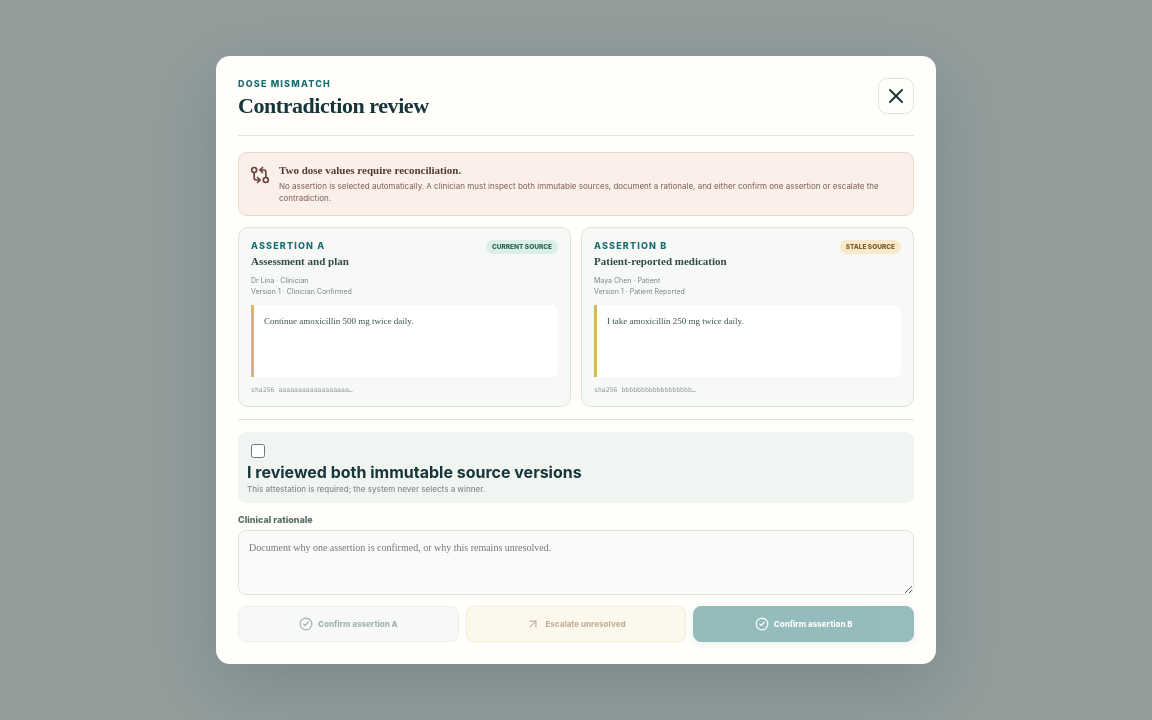
Test: resolution failures remain actionable in the dialog
The width and height of the screenshot is (1152, 720).
Click the checkbox labelled "reviewed both immutable source versions": (258, 451) [251,444,265,458]
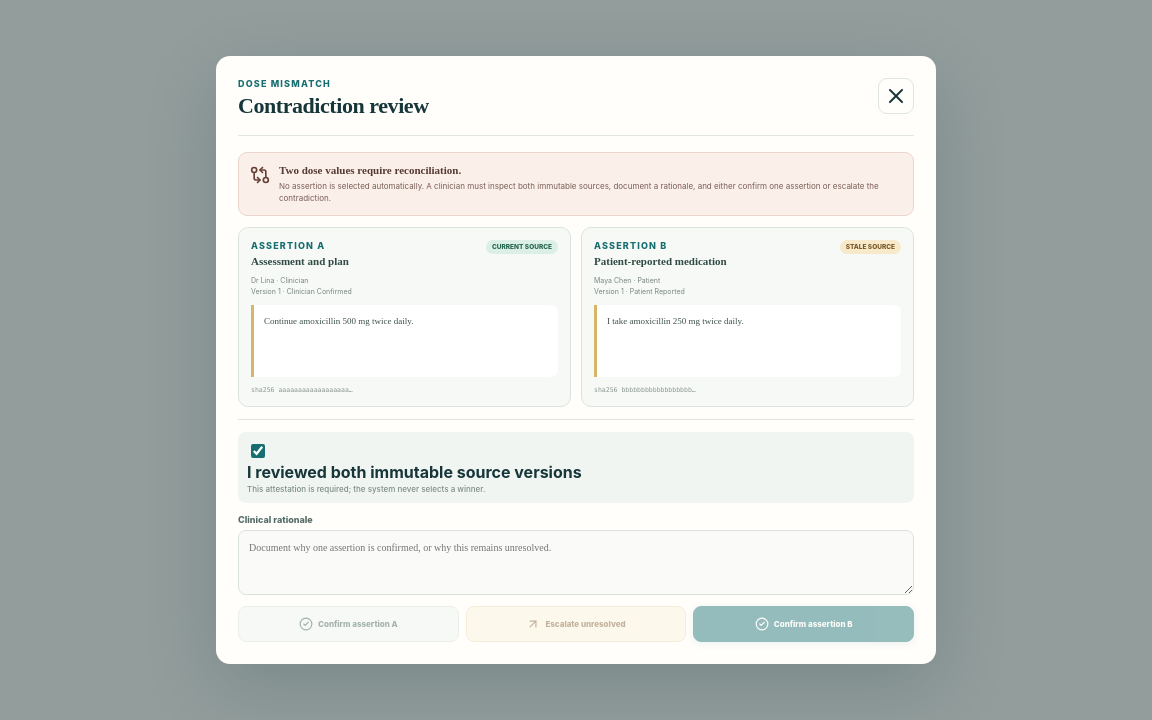
Replace the text in the text box labelled "Clinical rationale" with "Reviewed both immutable source records.": (576, 563) [238,530,914,595]
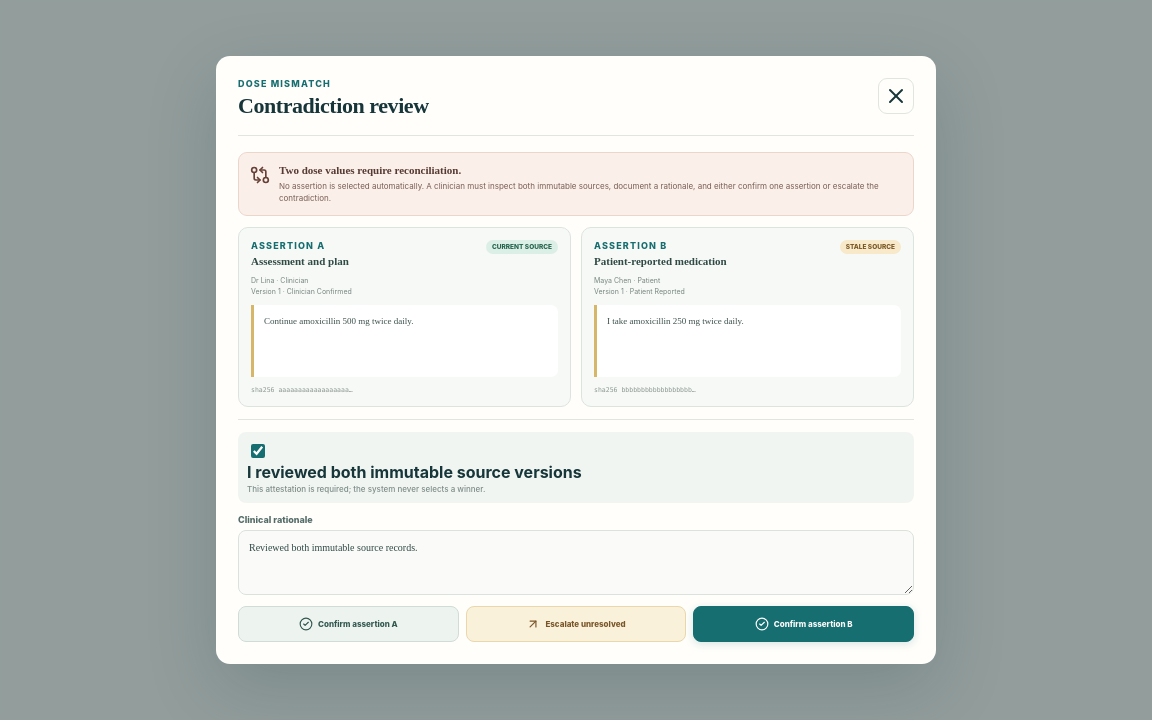
Click the button "Confirm assertion A": (348, 624) [238,606,459,642]
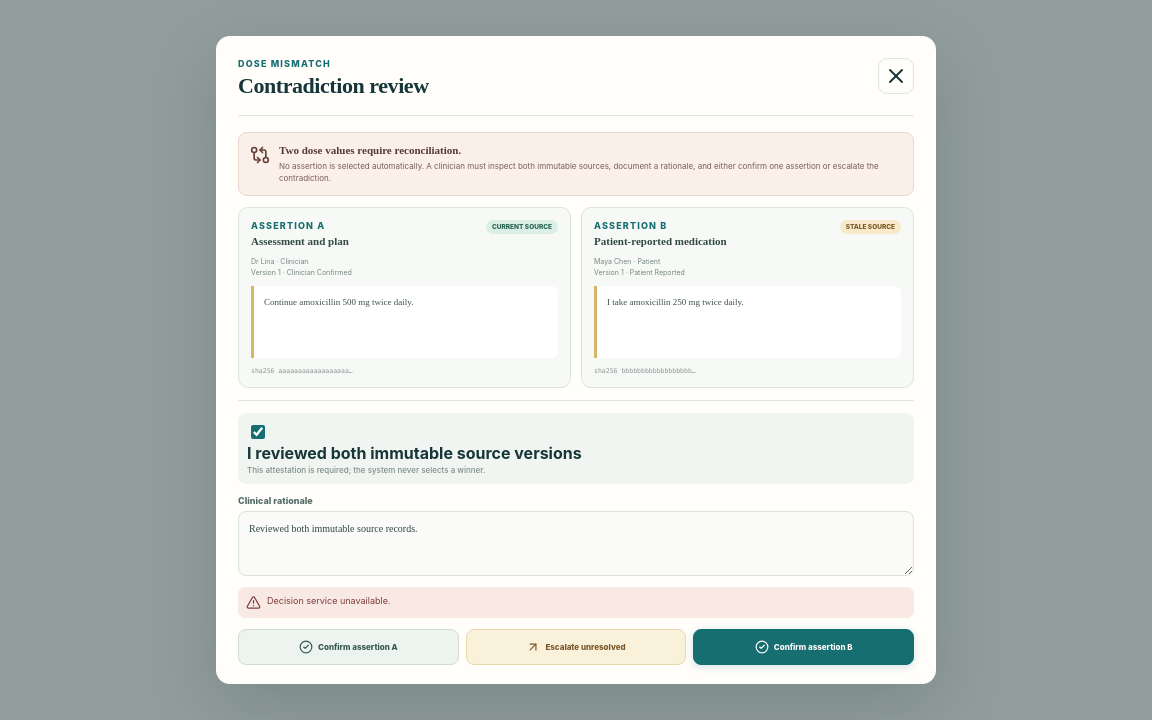
Expected: the text "Decision service unavailable." is shown, [238,587,914,618]
